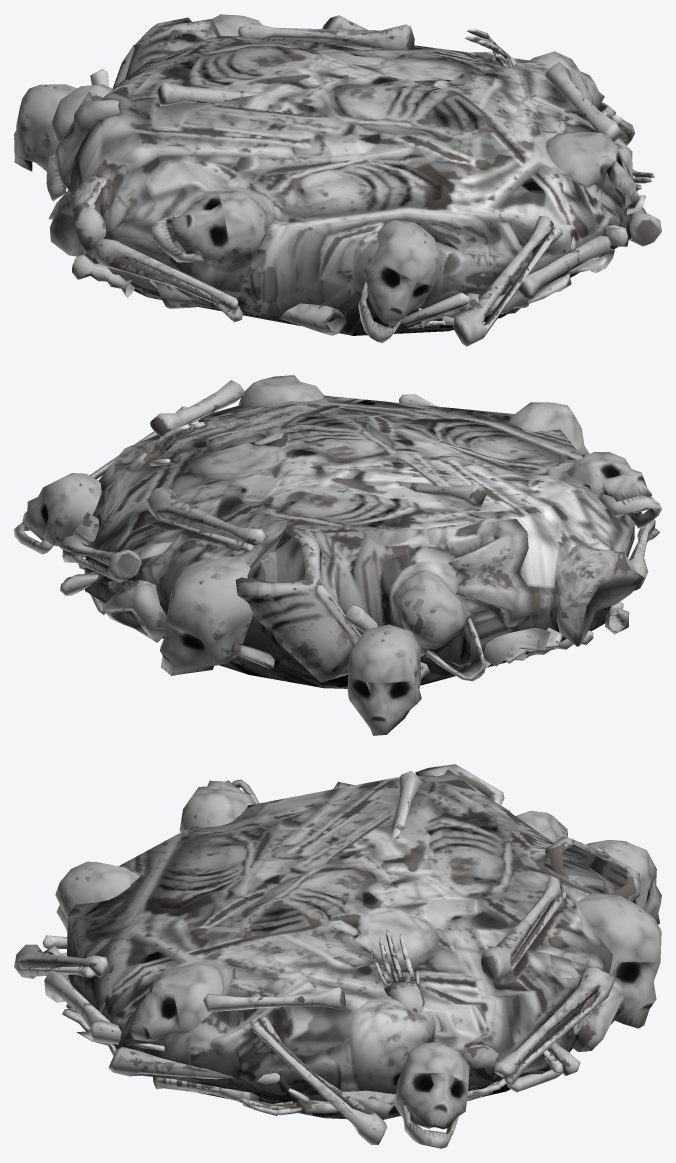
Rendered from bonepile.fbx.
3 renders of one model, top to bottom at view 1: azimuth 30°, elevation 25°; view 2: azimuth 150°, elevation 25°; view 3: azimuth 270°, elevation 25°, orthographic. The views are drawn at different scales.
Visible parts, largest first — view 1: bonepile; view 2: bonepile; view 3: bonepile.
Part boxes in pixels (box(x1,y1,x2,y2)): bonepile: box(14, 14, 661, 346); bonepile: box(14, 375, 661, 735); bonepile: box(14, 764, 661, 1148).
Bounding box in the file's own units: 194 × 51.32 × 184.
